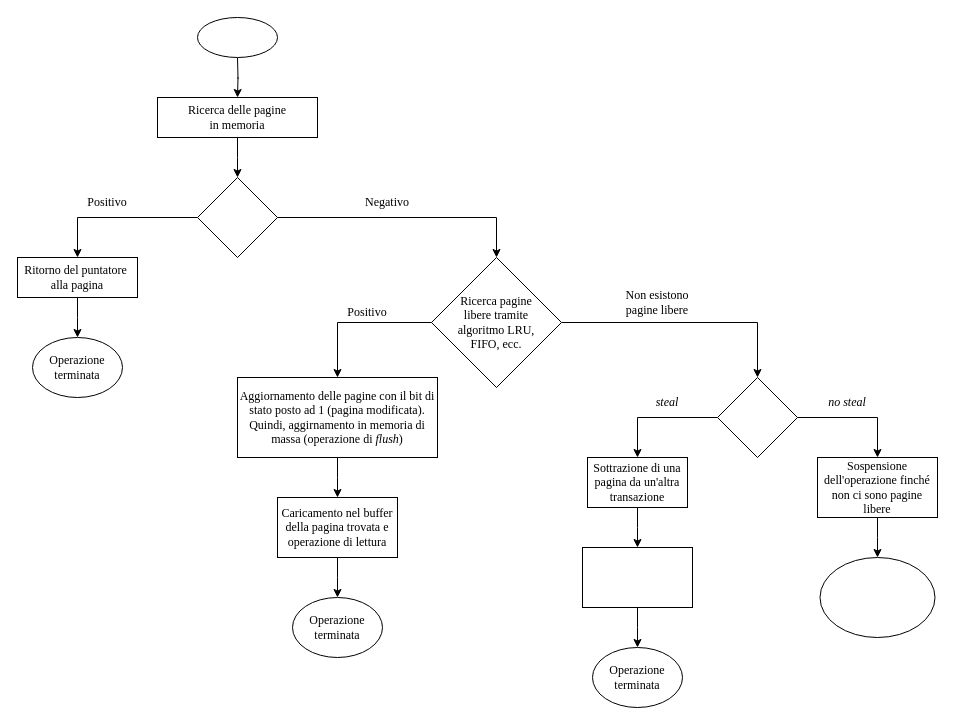
The diagram is 955 pixels wide and 725 high, and some of its shapes have lost their labels. The shapes that lost their labels are listed below. From the top down, each one's centre as x and y in pixels, then its label:
point 237,37: fix
point 237,217: Esito ricerca
point 757,417: Scelta della politica
point 637,577: La pagina viene scaricata dalla memoria di massa (op. flush ) e letta
point 877,597: Attesa all'interno di una coda di transazioni
